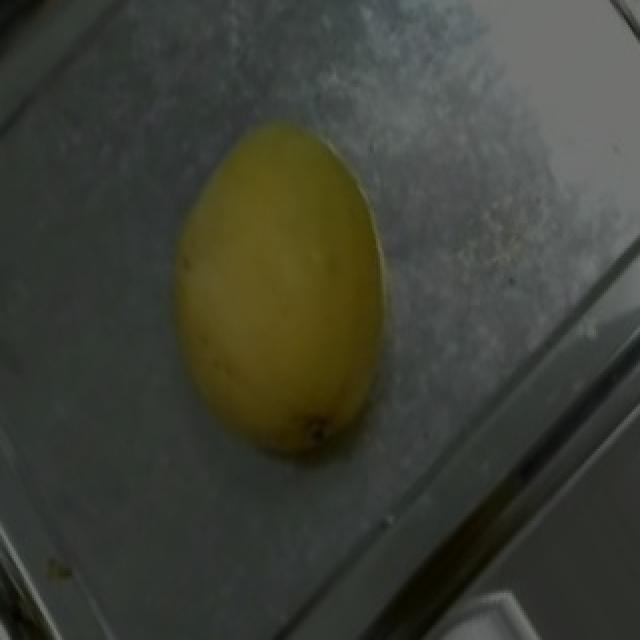fruit: (144, 89, 474, 494)
